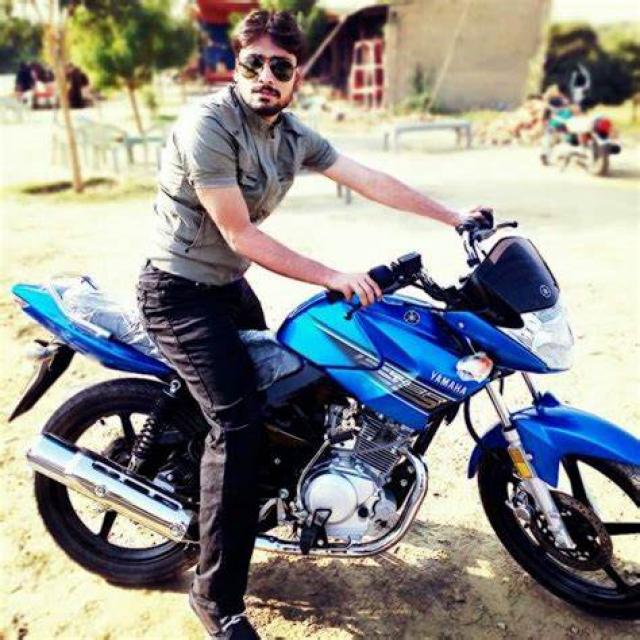Not Wearing Helmet: (246, 19, 368, 157)
